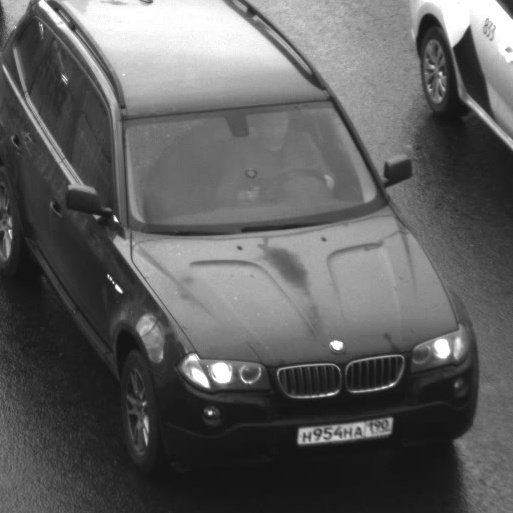plate: (286, 405, 401, 452)
